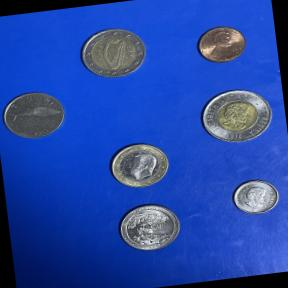coin: (190, 80, 281, 154), (110, 196, 193, 262), (101, 135, 179, 200), (74, 22, 154, 84), (0, 85, 72, 147), (190, 19, 252, 71), (226, 173, 286, 222)
